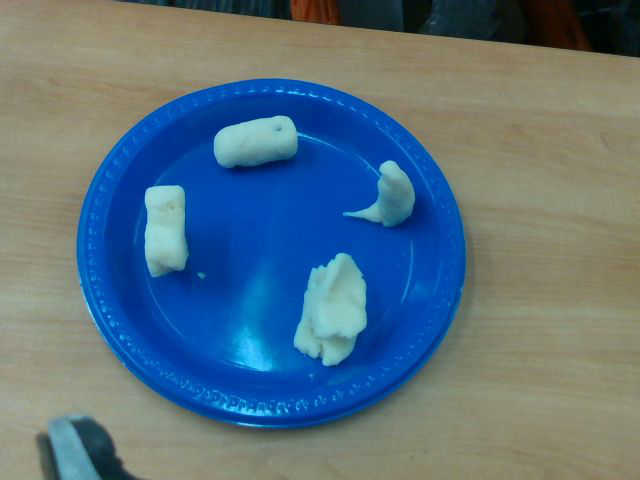mashed_potato: (294, 254, 366, 366), (344, 160, 414, 227), (214, 115, 297, 168), (144, 186, 188, 276)
